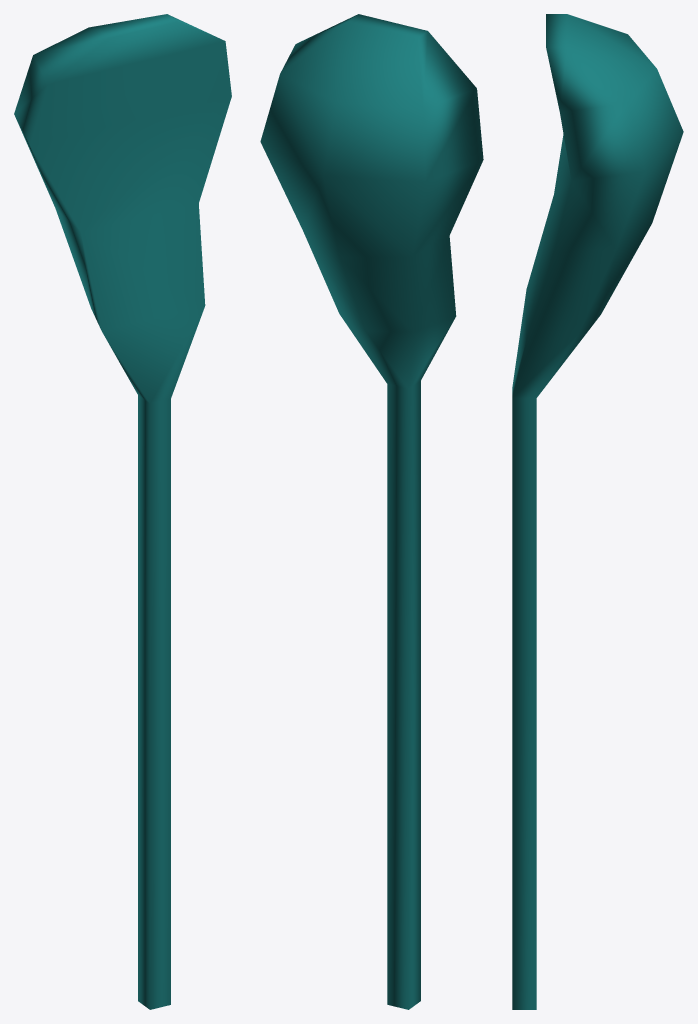
Rendered from lacrosse_stick_collider.fbx.
The picture shows the model from 3 angles, left to right: view 1: azimuth 30°, elevation 25°; view 2: azimuth 150°, elevation 25°; view 3: azimuth 270°, elevation 25°; orthographic projection. The views are drawn at different scales.
Parts seen in each view (by area): view 1: lacrosse_stick_collider; view 2: lacrosse_stick_collider; view 3: lacrosse_stick_collider.
Boxes of the visible parts, x1,y1,x2,y2 form: lacrosse_stick_collider: [14, 14, 231, 1009]; lacrosse_stick_collider: [260, 14, 483, 1009]; lacrosse_stick_collider: [512, 14, 683, 1009].
Size of the model in its own units: 30.57 by 140 by 22.3.
